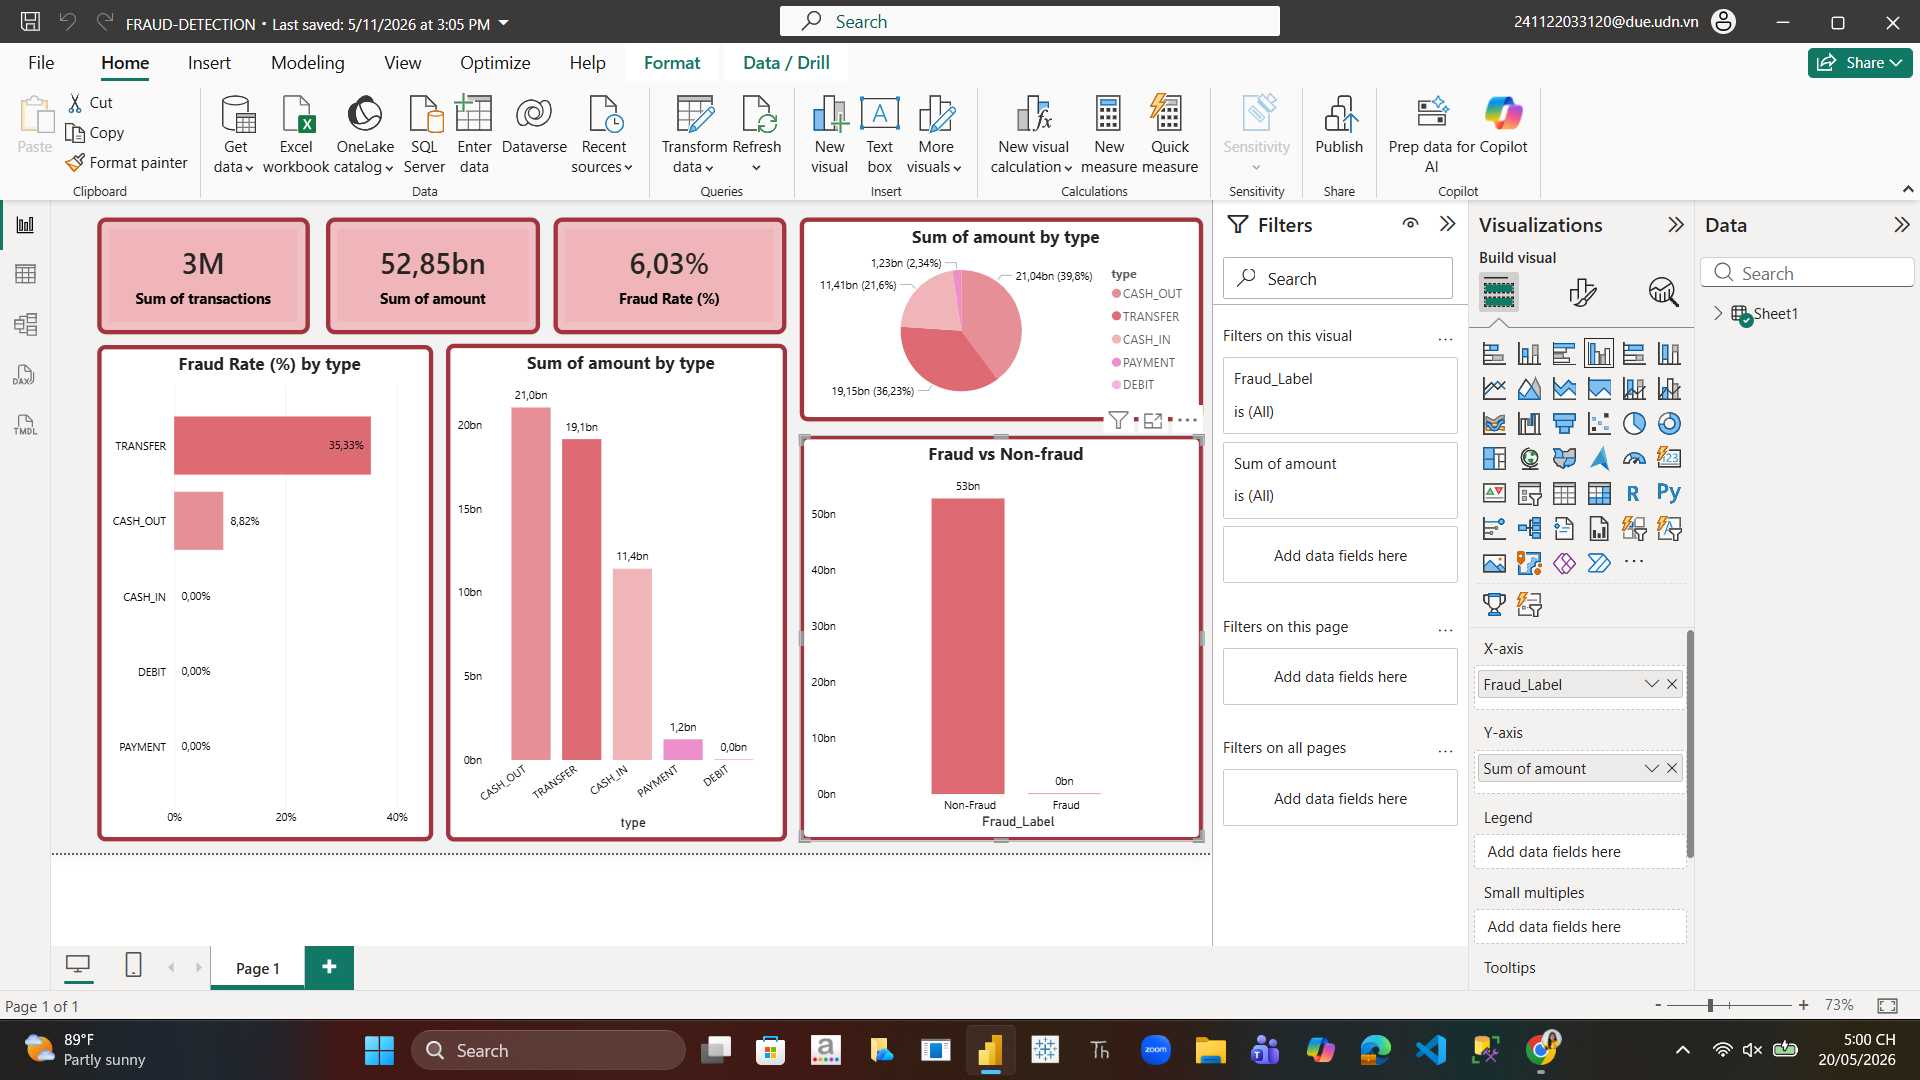

The page's visual inventory and layout, read from the dashboard file:
{"tool":"powerbi","page":{"name":"Page 1","canvas":[1280,720],"ordinal":0},"visuals":[{"type":"cardVisual","fields":{"Data":["Sum(Sheet1.amount)"]},"box":[303.3,19.2,236,129],"z":0},{"type":"cardVisual","fields":{"Data":["Sum(Sheet1.step)"]},"box":[50.8,19.2,234.6,129],"z":1},{"type":"cardVisual","fields":{"Data":["Sheet1.Fraud_rate"]},"box":[554.4,19.2,256.6,129],"z":2},{"type":"clusteredBarChart","fields":{"Category":["Sheet1.type"],"Y":["Sheet1.Fraud_rate"]},"box":[50.8,159.2,370.5,547.5],"z":3},{"type":"clusteredColumnChart","fields":{"Category":["Sheet1.type"],"Y":["Sum(Sheet1.amount)"]},"box":[435,157.8,376,548.9],"z":4},{"type":"pieChart","fields":{"Category":["Sheet1.type"],"Y":["Sum(Sheet1.amount)"]},"box":[826.1,19.2,444.6,225],"z":5},{"type":"clusteredColumnChart","title":"Fraud vs Non-fraud","fields":{"Category":["Sheet1.Fraud_Label"],"Y":["Sum(Sheet1.amount)"]},"box":[825.5,259.1,445.1,447.9],"z":6}]}

Visuals, with their boxes on the page's 1280x720 design canvas (x1, y1, x2, y2). These are canvas units, not pixel positions in the 1920x1080 screenshot, which may show the page scaled, cropped or inside an application window:
cardVisual - Sum(Sheet1.amount): bbox=(303, 19, 539, 148)
cardVisual - Sum(Sheet1.step): bbox=(51, 19, 285, 148)
cardVisual - Sheet1.Fraud_rate: bbox=(554, 19, 811, 148)
clusteredBarChart - Sheet1.type x Sheet1.Fraud_rate: bbox=(51, 159, 421, 707)
clusteredColumnChart - Sheet1.type x Sum(Sheet1.amount): bbox=(435, 158, 811, 707)
pieChart - Sheet1.type x Sum(Sheet1.amount): bbox=(826, 19, 1271, 244)
"Fraud vs Non-fraud" clusteredColumnChart: bbox=(826, 259, 1271, 707)
